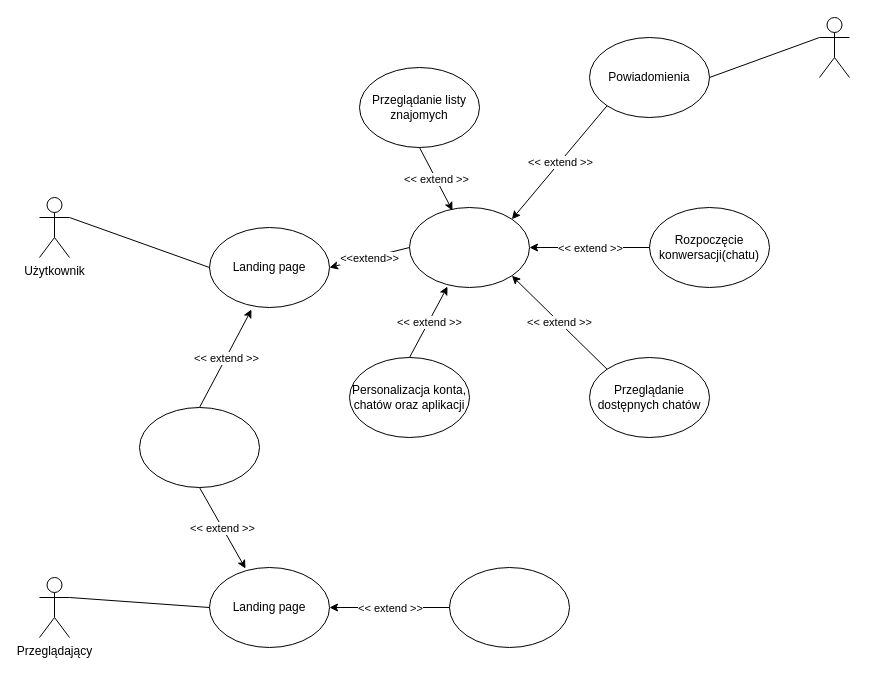
The diagram is 876 pixels wide and 676 high, and some of its shapes have lost their labels. The shapes that lost their labels are listed below. From the top down, each one's centre as x and y in pixels, then its label:
At (x=834, y=47): "Aplikacja".
At (x=469, y=247): "Zaloguj się".
At (x=199, y=447): "Możliwość odwiedzenia strony o autorach".
At (x=509, y=607): "Rejestracja".
